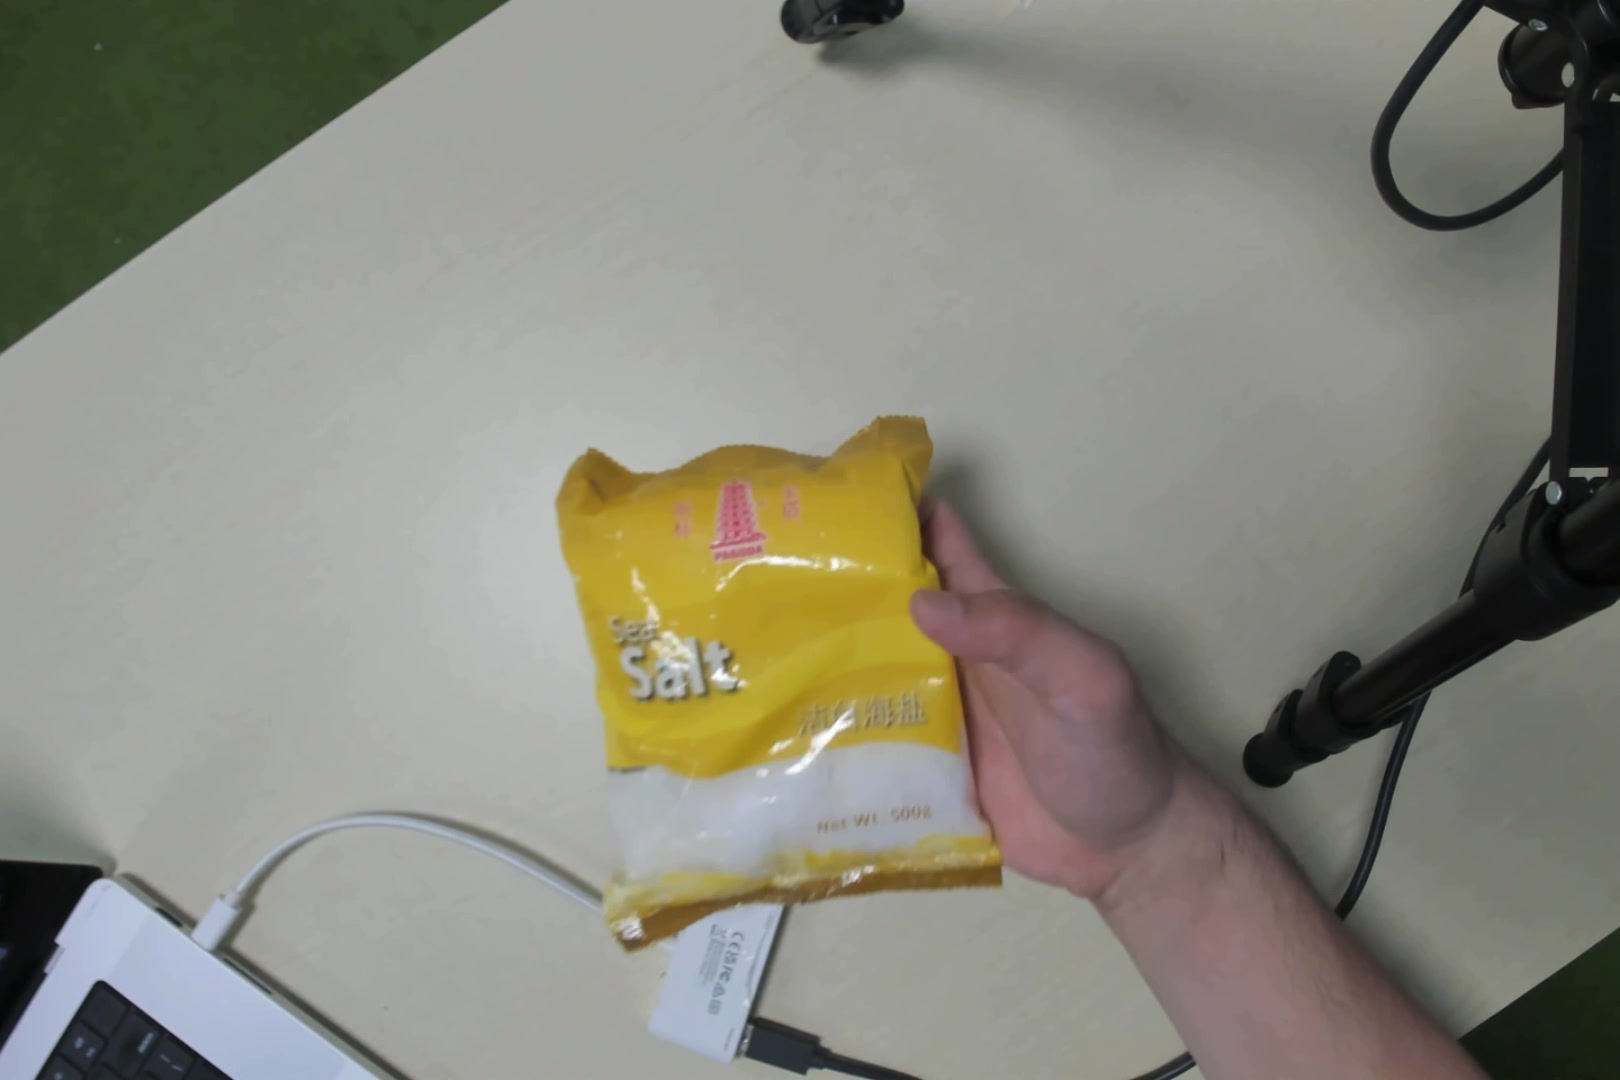Salt_500-599g_Halal_NonHealthy: (573, 446, 972, 900)
